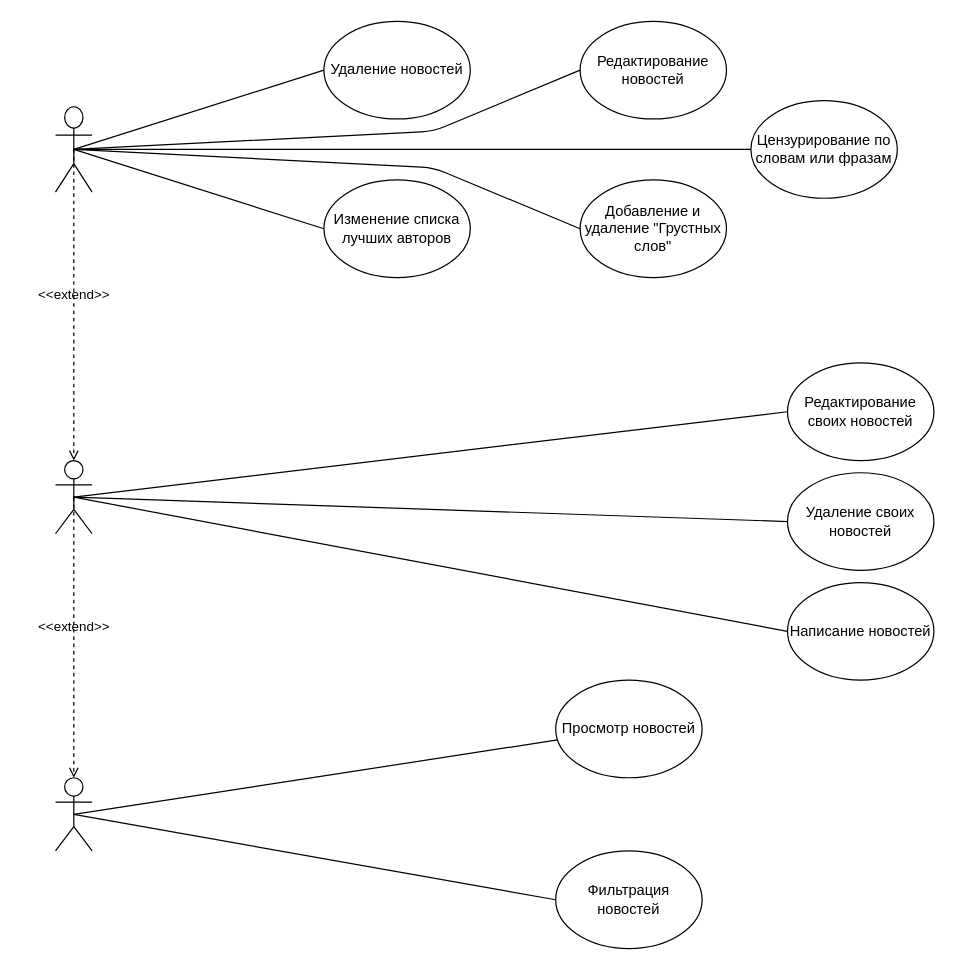
This 955x970 diagram has some shape labels left out. Here are the shapes that lost their labels. From the top down, the centre of each, then its label:
At point (73, 149): "Администратор".
At point (73, 496): "Автор".
At point (73, 814): "Читатель".
